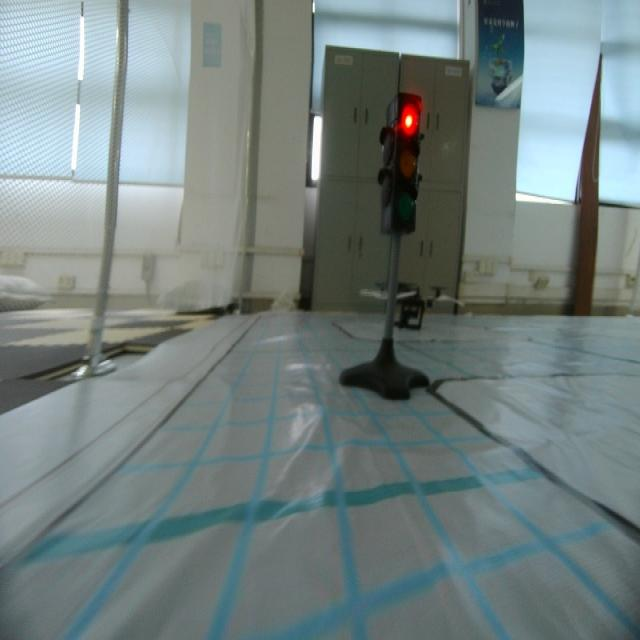red: (378, 91, 427, 241)
